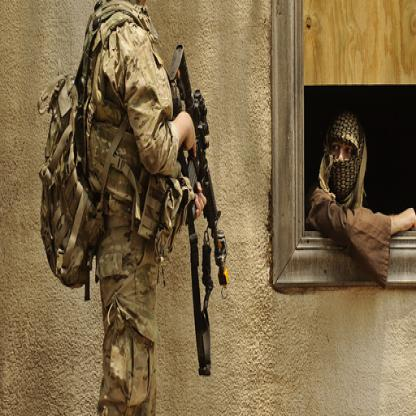gun: (164, 42, 230, 298)
